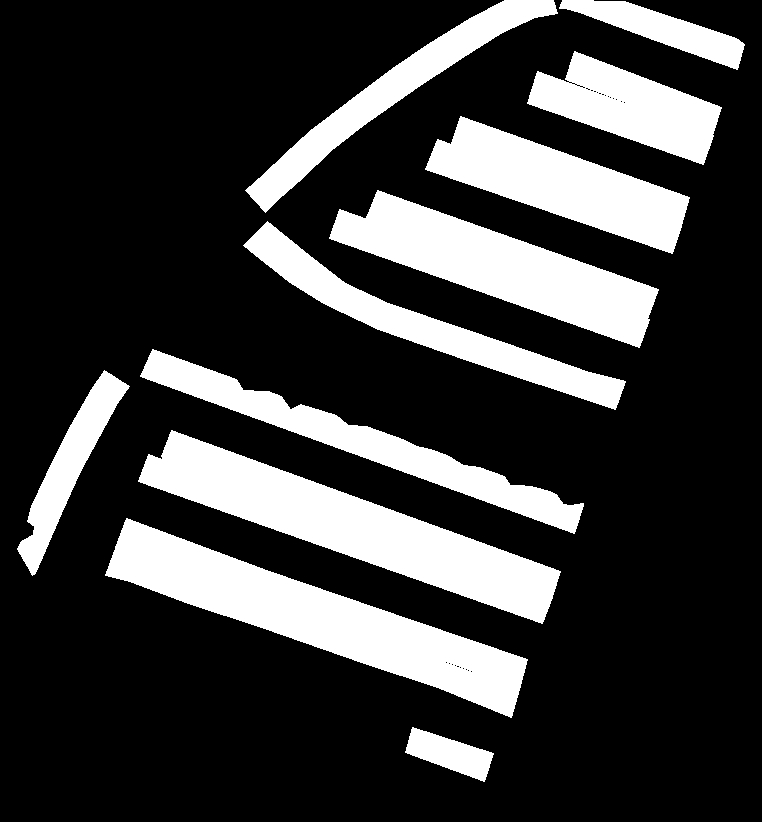parkingspot: (140, 349, 583, 533), (243, 221, 625, 409), (105, 545, 519, 717), (115, 518, 527, 689), (138, 454, 552, 623), (161, 430, 560, 599), (245, 0, 557, 212), (329, 209, 649, 347), (365, 190, 658, 319), (425, 139, 681, 253), (451, 116, 689, 225), (17, 370, 129, 575), (527, 71, 713, 164), (565, 51, 721, 135), (559, 0, 744, 69), (405, 727, 493, 781)
